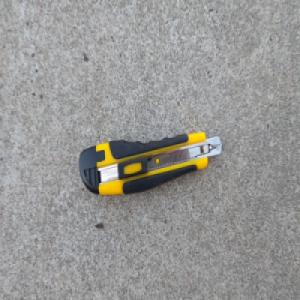Cutter: (78, 130, 222, 196)
